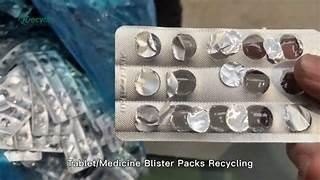pill_Strip: (24, 53, 66, 122), (34, 52, 76, 118), (46, 51, 85, 114), (0, 38, 52, 75), (0, 65, 31, 110), (0, 95, 30, 134), (31, 85, 49, 135), (13, 120, 32, 149), (32, 135, 62, 152), (61, 134, 81, 158), (4, 150, 41, 161)
